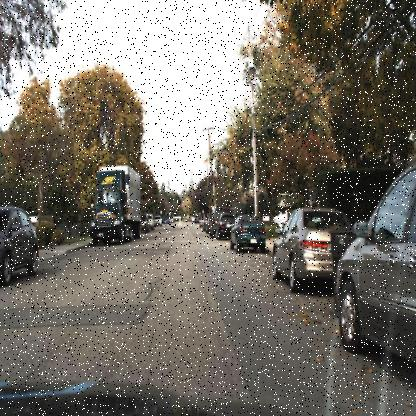car: (332, 159, 416, 379), (271, 198, 352, 298), (270, 203, 355, 290), (0, 206, 40, 284), (228, 216, 271, 253), (227, 213, 268, 251), (206, 204, 221, 240), (215, 212, 233, 240), (139, 210, 149, 232), (146, 214, 154, 230), (153, 214, 161, 226), (205, 215, 209, 236)
truck: (86, 159, 146, 246), (88, 164, 142, 246)
